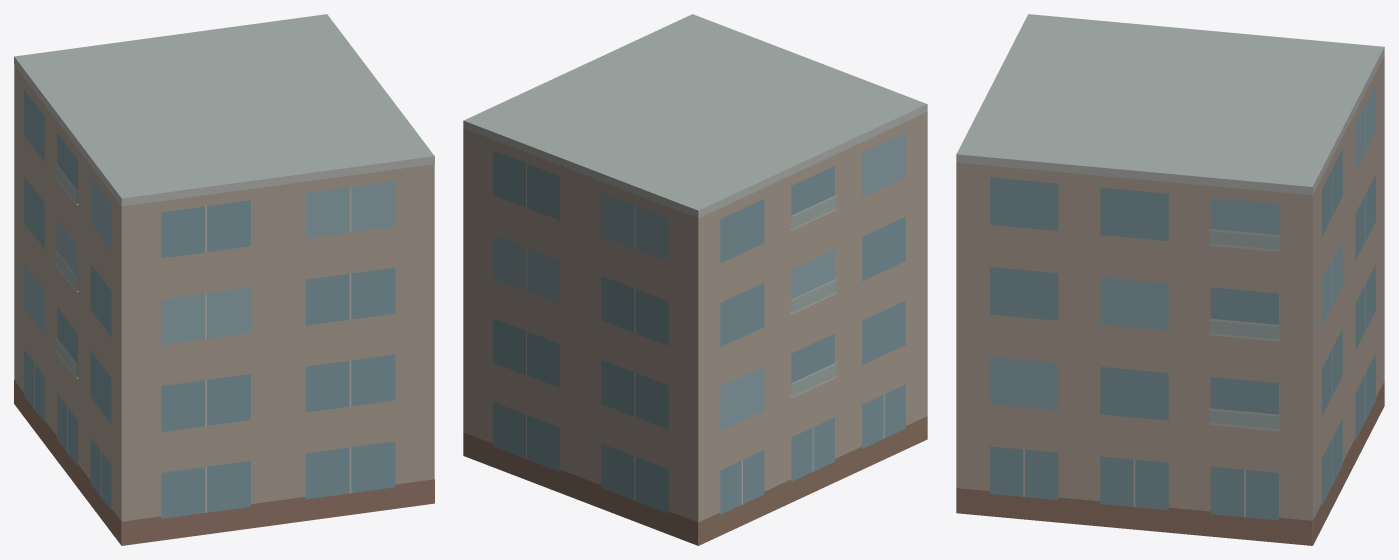
Rendered from survey-upis-32513971.glb.
The picture shows the model from 3 angles, left to right: view 1: azimuth 30°, elevation 25°; view 2: azimuth 150°, elevation 25°; view 3: azimuth 270°, elevation 25°; orthographic projection. The views are drawn at different scales.
Visible parts, largest first — view 1: survey-upis-32513971.tmp; view 2: survey-upis-32513971.tmp; view 3: survey-upis-32513971.tmp.
Boxes of the visible parts, left/top/right/bottom form: survey-upis-32513971.tmp: left=14, top=14, right=434, bottom=545; survey-upis-32513971.tmp: left=463, top=14, right=927, bottom=545; survey-upis-32513971.tmp: left=956, top=14, right=1384, bottom=545.
Size of the model in its own units: 10.97 by 10.6 by 11.48.
